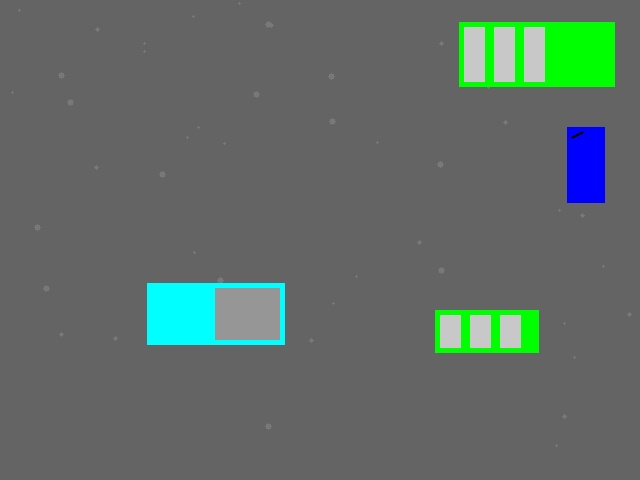bus: (459, 22, 614, 86), (435, 310, 538, 352)
motorcycle: (567, 127, 604, 202)
truck: (147, 283, 284, 344)
